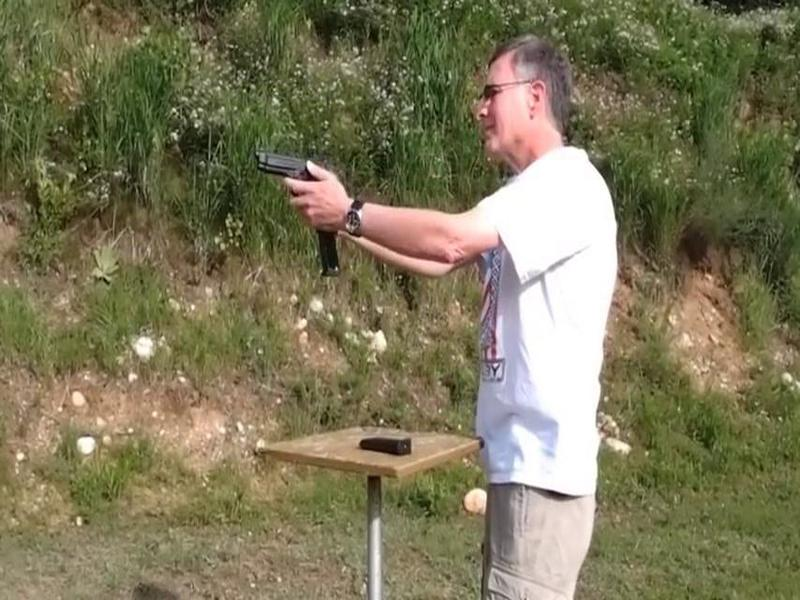Pistola: (220, 124, 348, 221)
